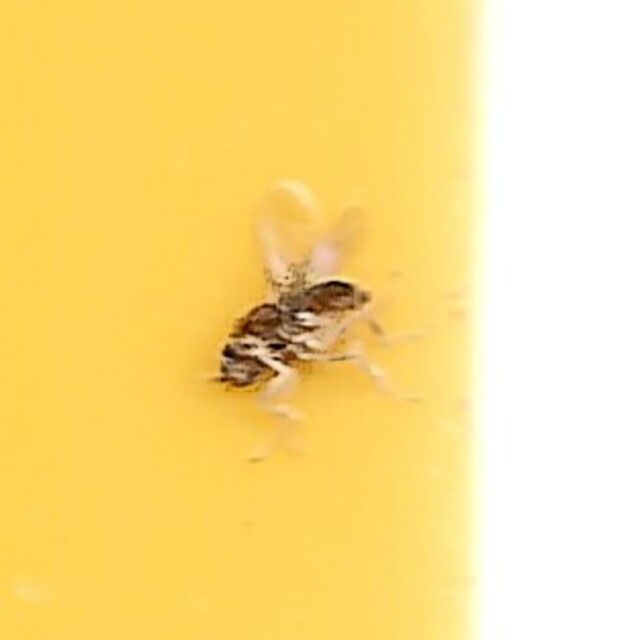Brachycera: (204, 185, 436, 455)
